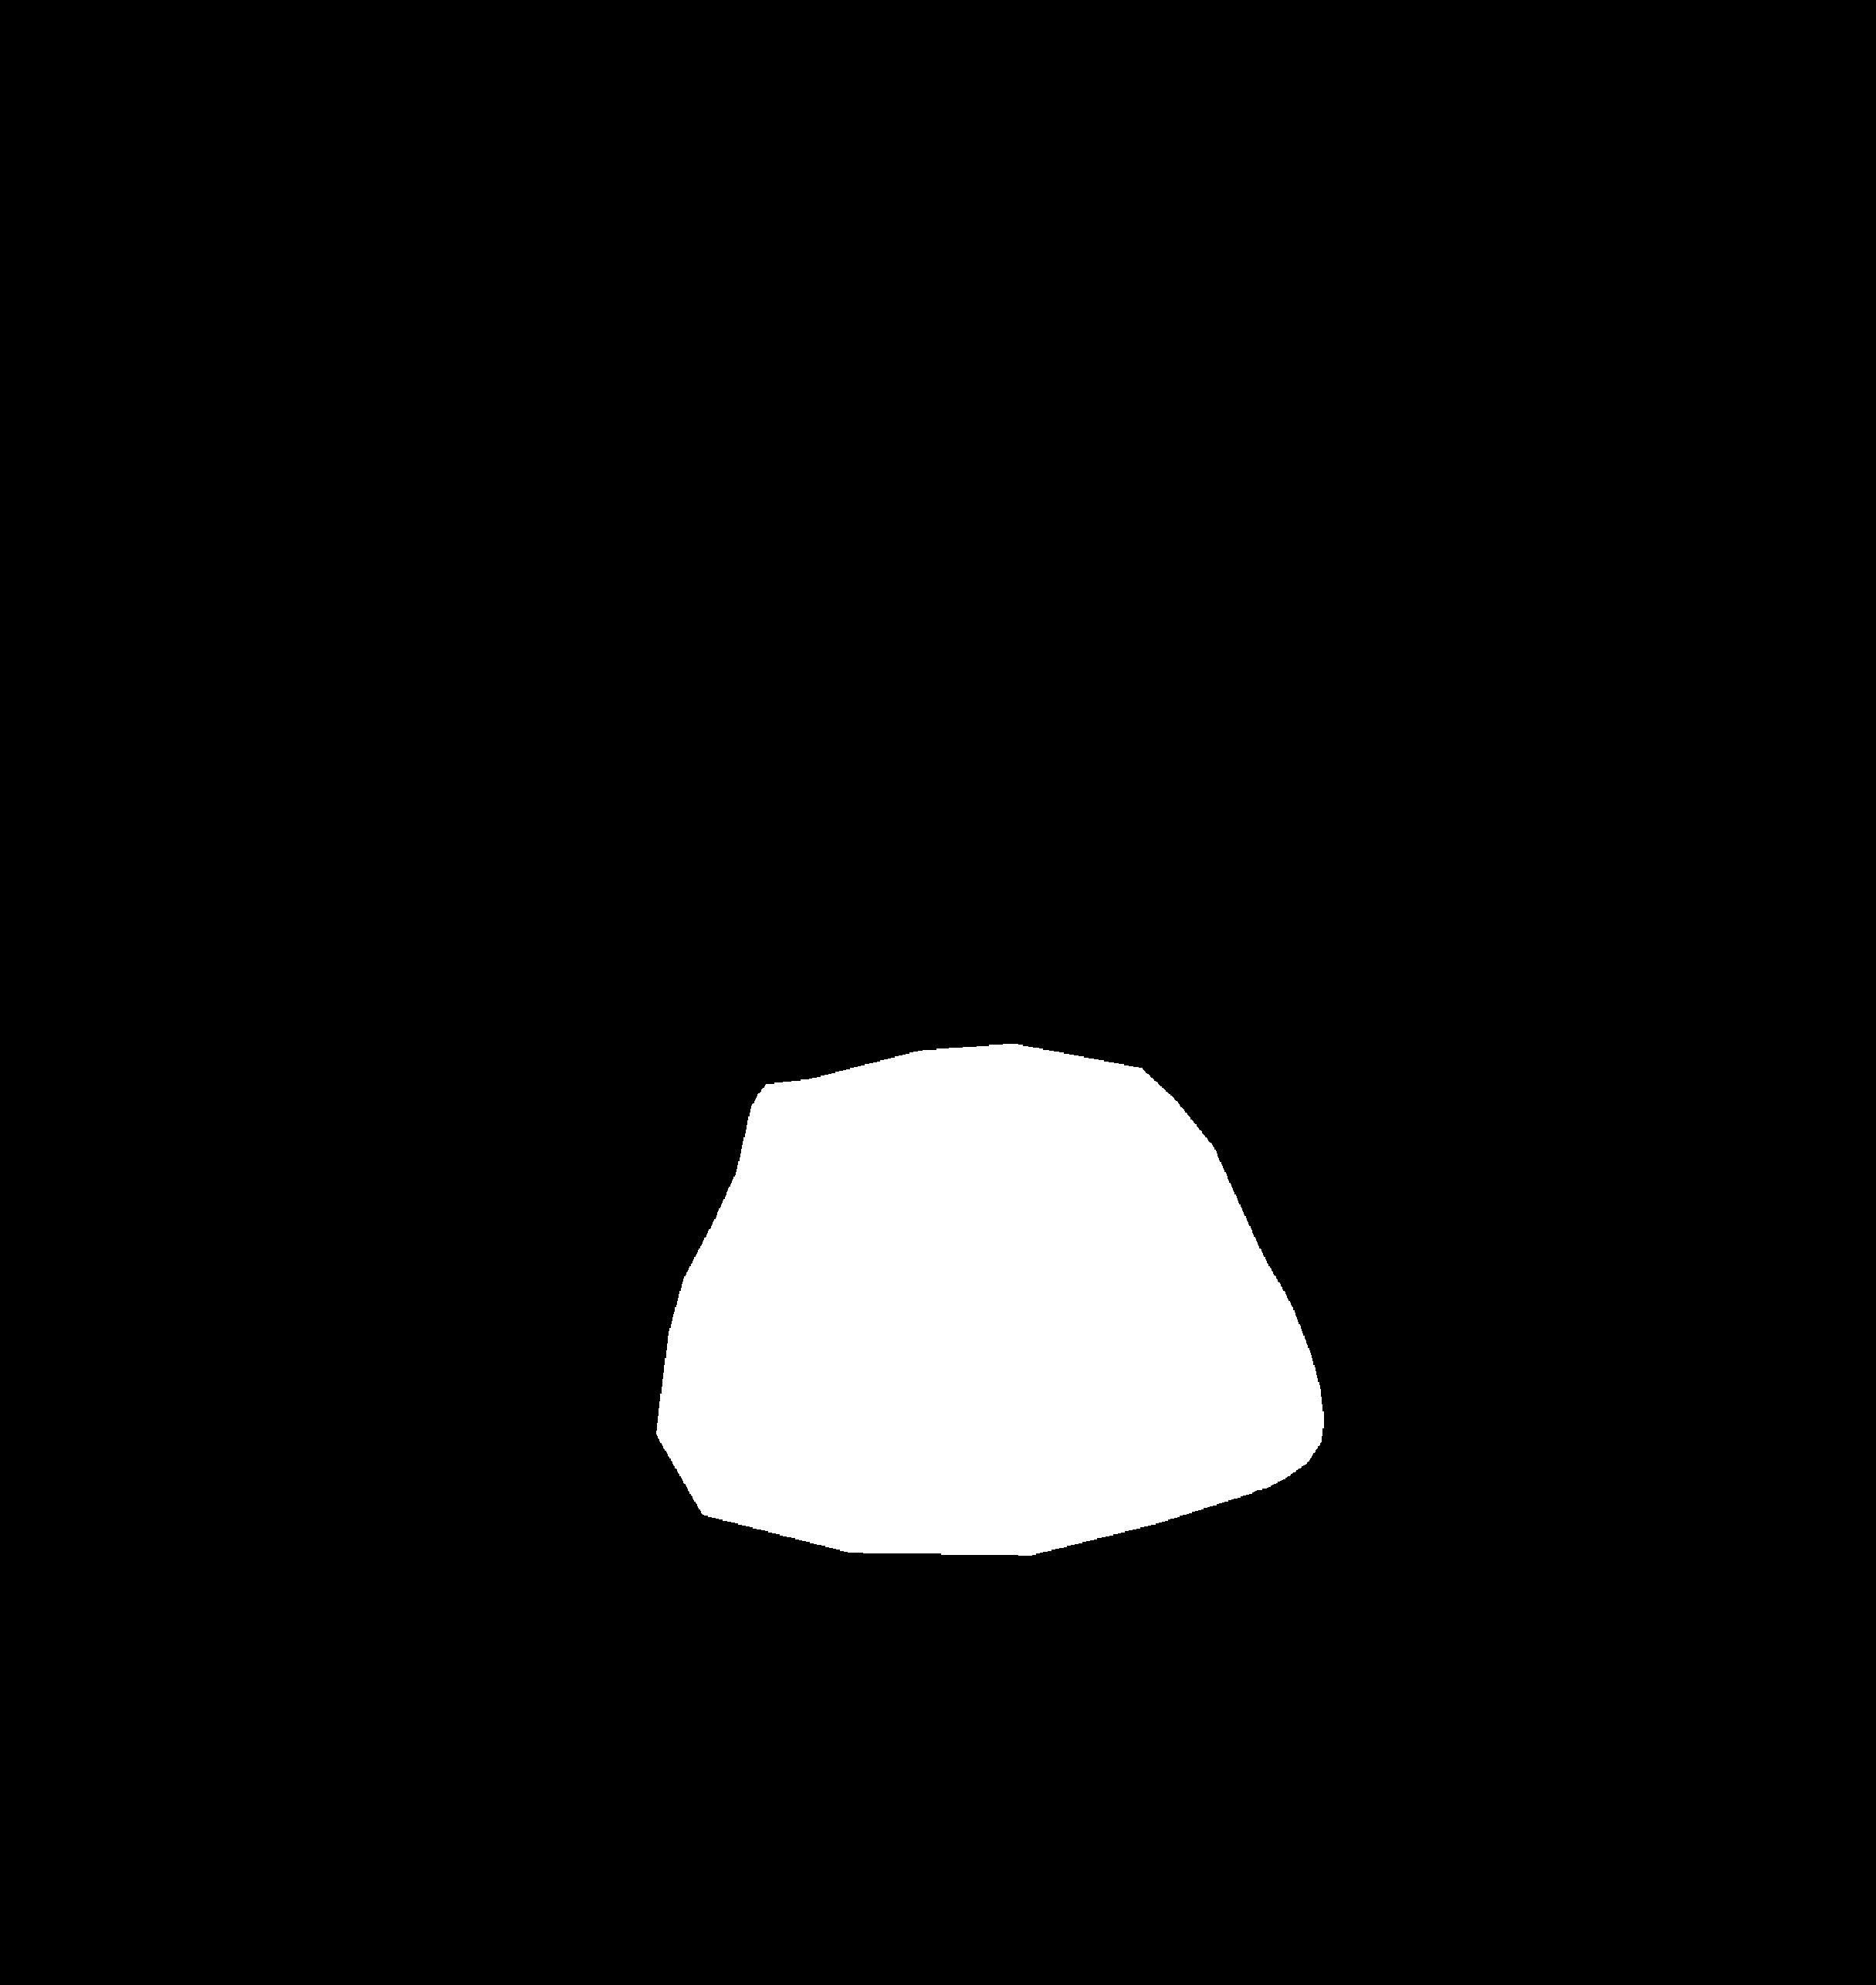heart: (659, 1160, 1296, 1576)
left_lung: (141, 162, 800, 1668)
right_lung: (973, 160, 1677, 1558)
